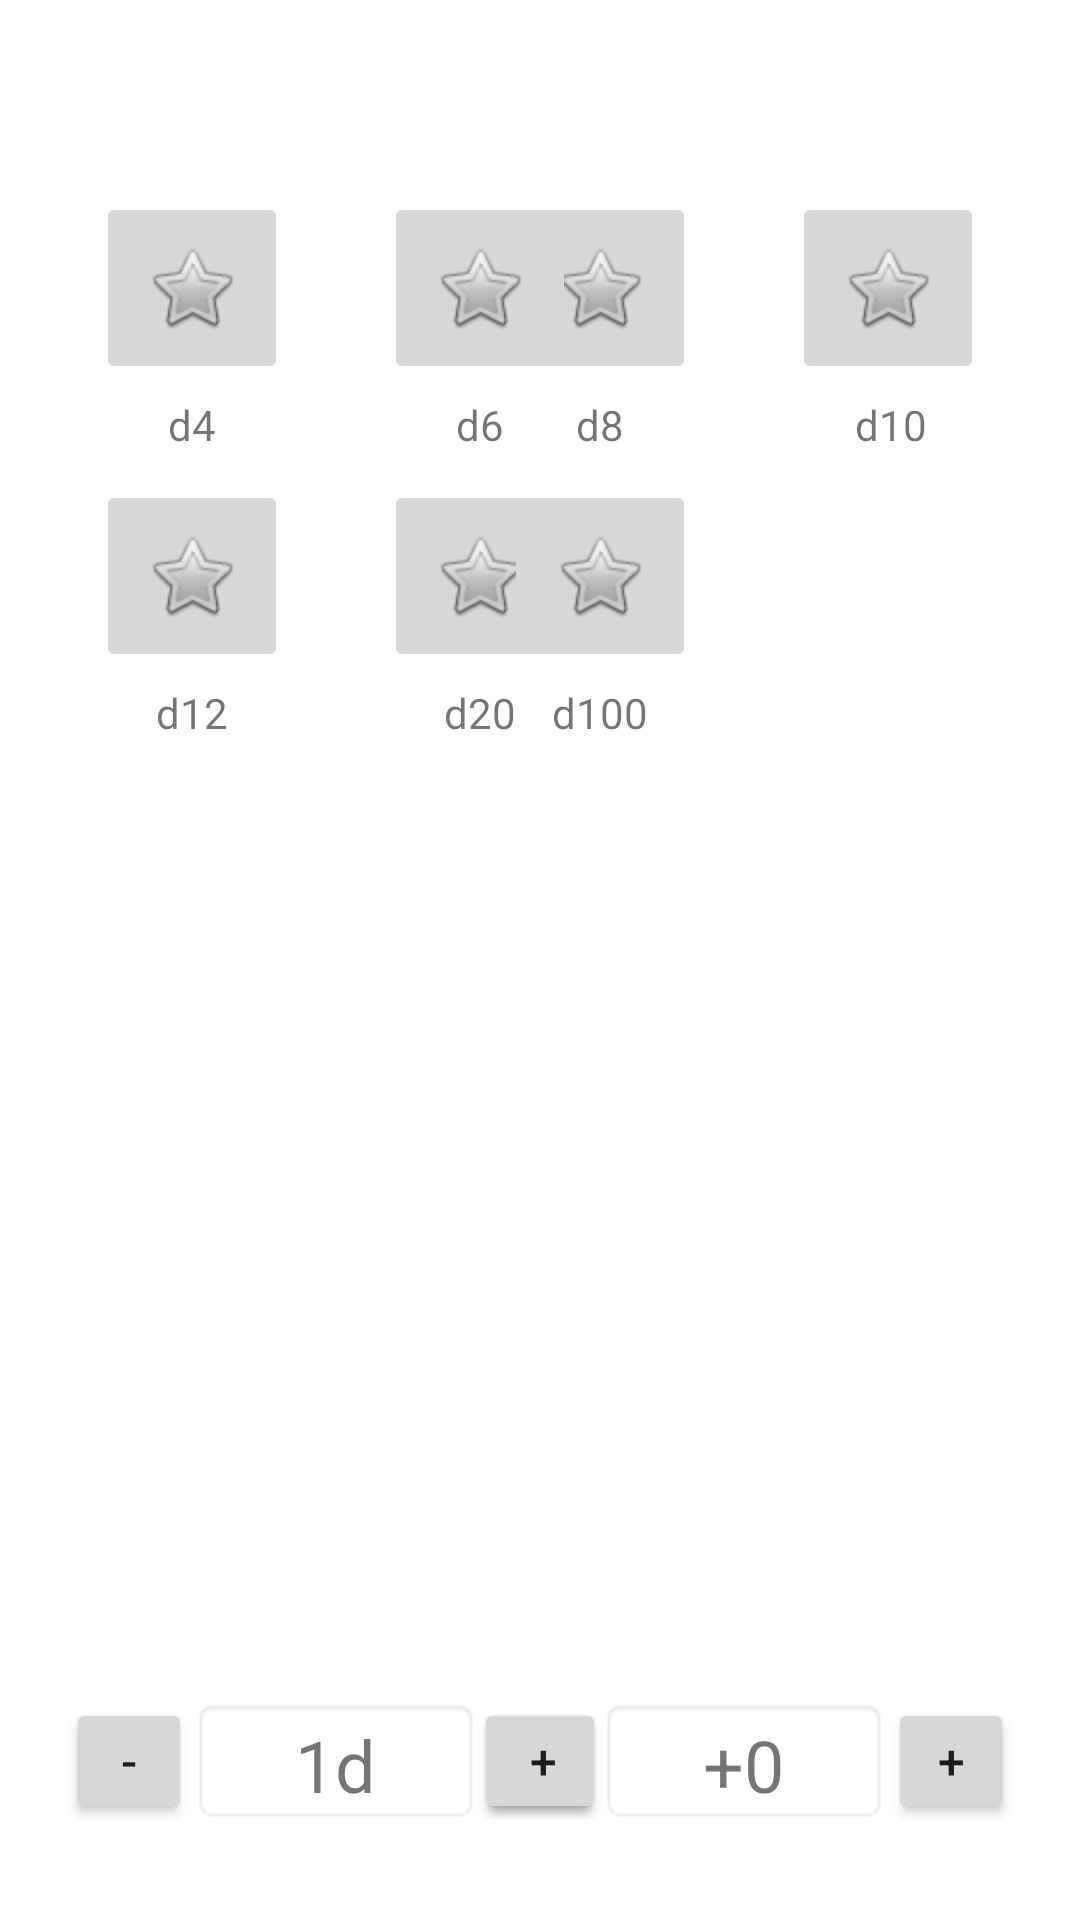

Icons on this 1080px×1920px Android screen, each with its box as (x1, y1, x2, y2):
star: (108, 210, 276, 366), (396, 210, 576, 366), (504, 210, 684, 366), (804, 210, 972, 366), (108, 498, 276, 654), (396, 498, 576, 654), (504, 498, 684, 654)
